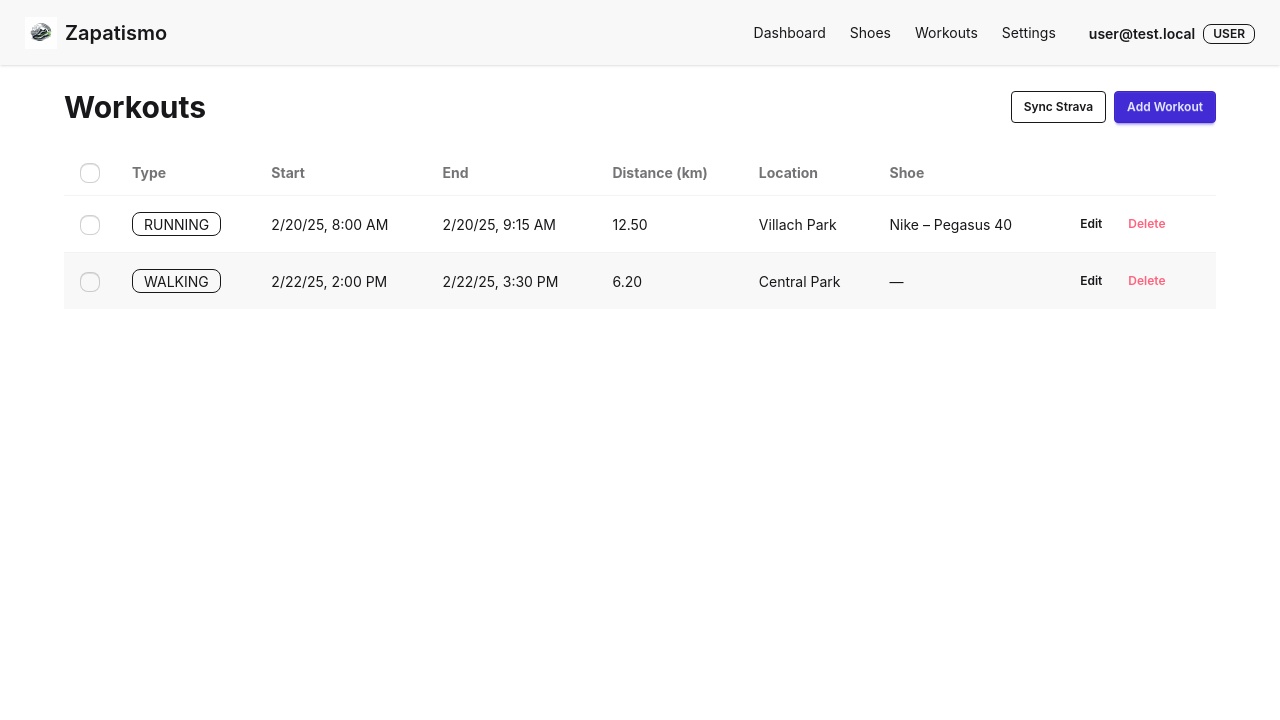
Workouts › e2e › fixtures › after bulk assign success modal closes and list shows assigned shoe
Check the checkbox with test id "workout-select-2": x=90, y=282 [80, 272, 100, 292]
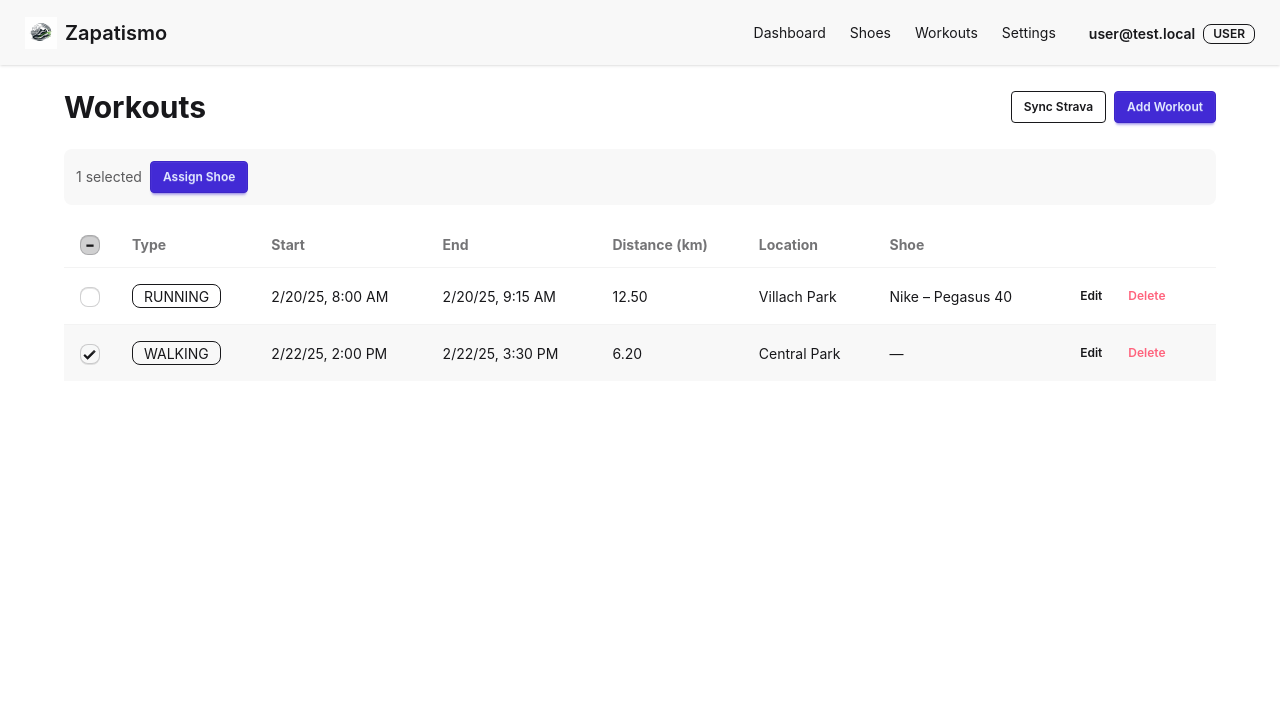
Click the button with test id "assign-shoe-btn": x=199, y=177 [150, 161, 248, 193]
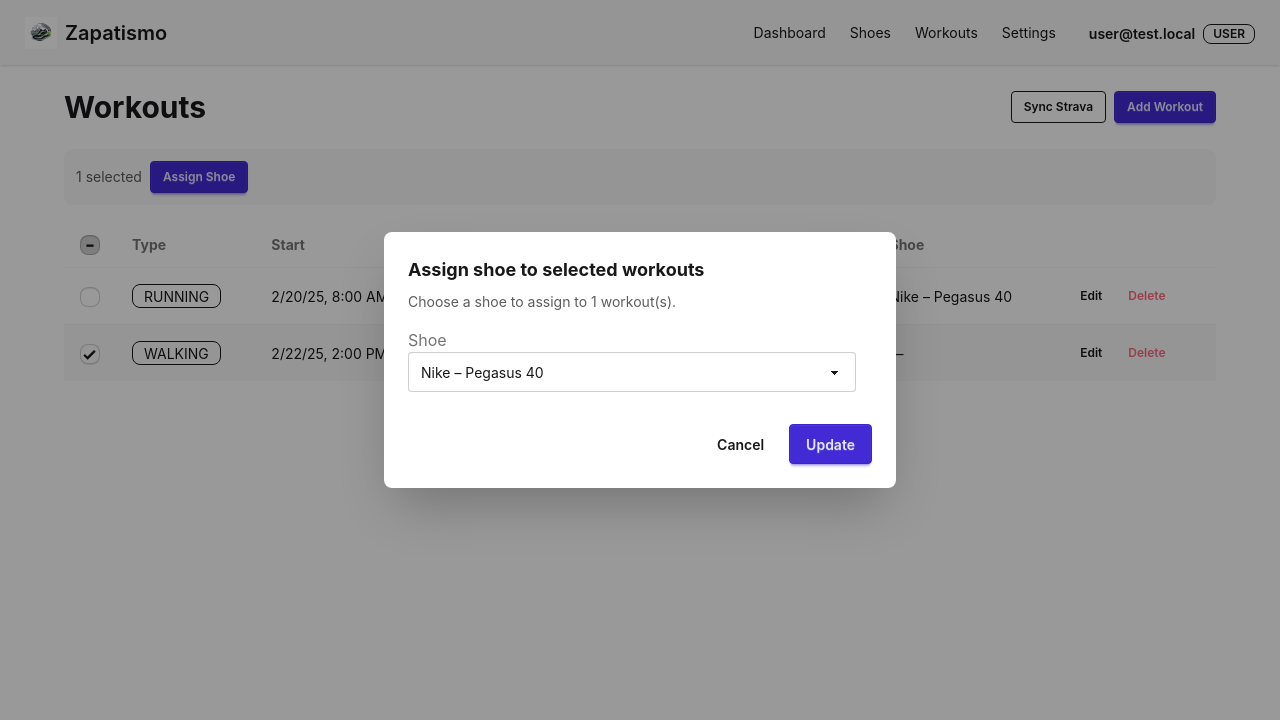
Select "Nike – Pegasus 40" in the dropdown with test id "assign-shoe-select": x=632, y=372 [408, 352, 856, 392]
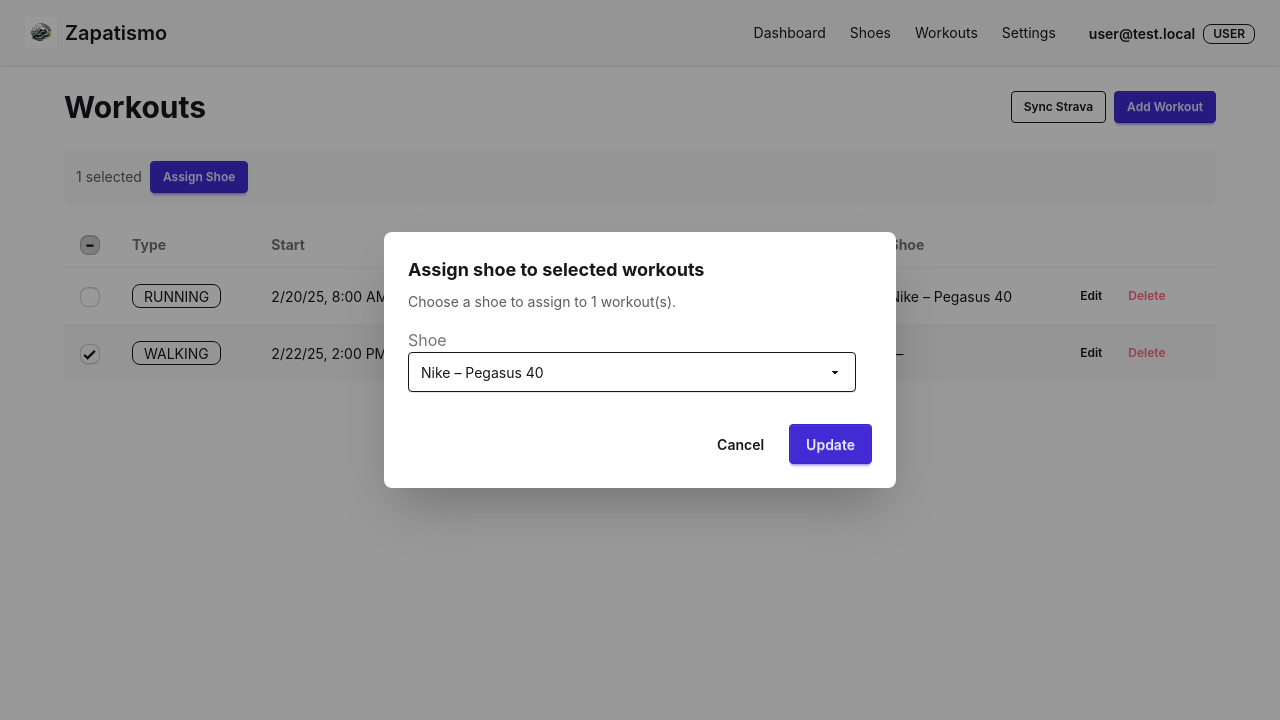
Click the button with test id "assign-shoe-confirm": x=831, y=444 [789, 424, 872, 464]
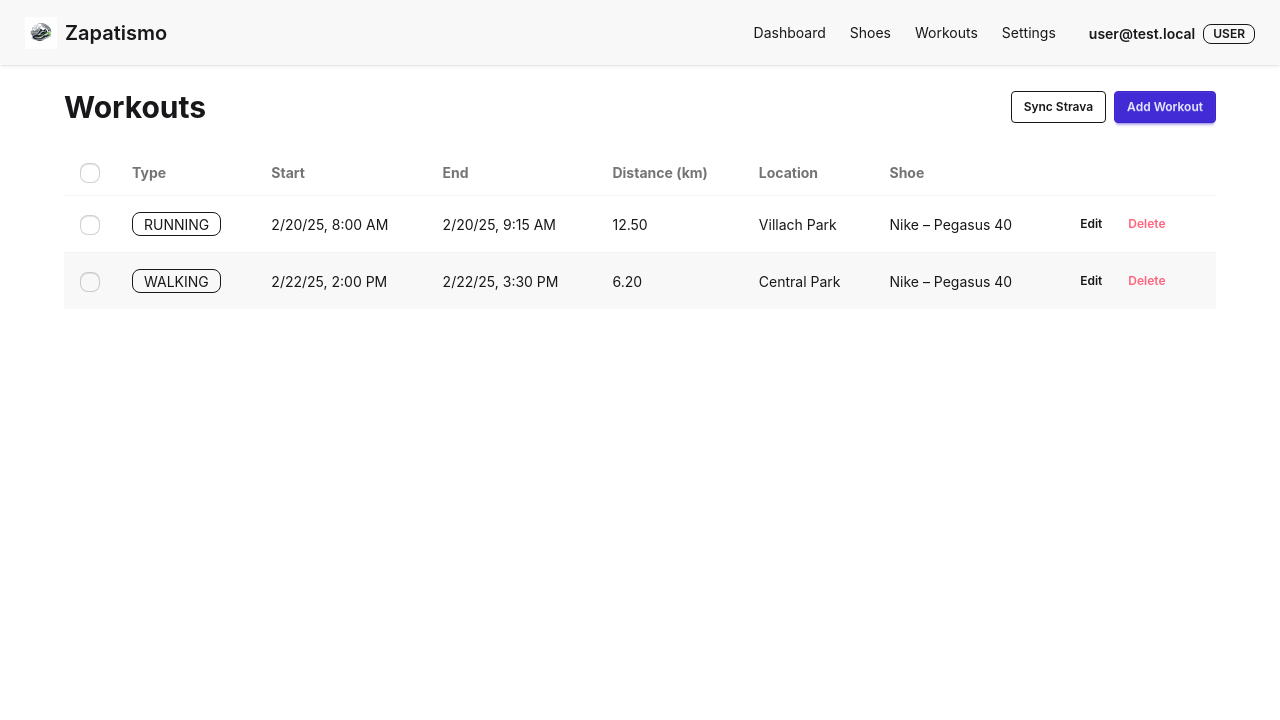
expect the dialog with test id "assign-shoe-modal" is gone: met
expect the text "Nike" in the row of "WALKING" is shown: met, box [889, 273, 1012, 290]
